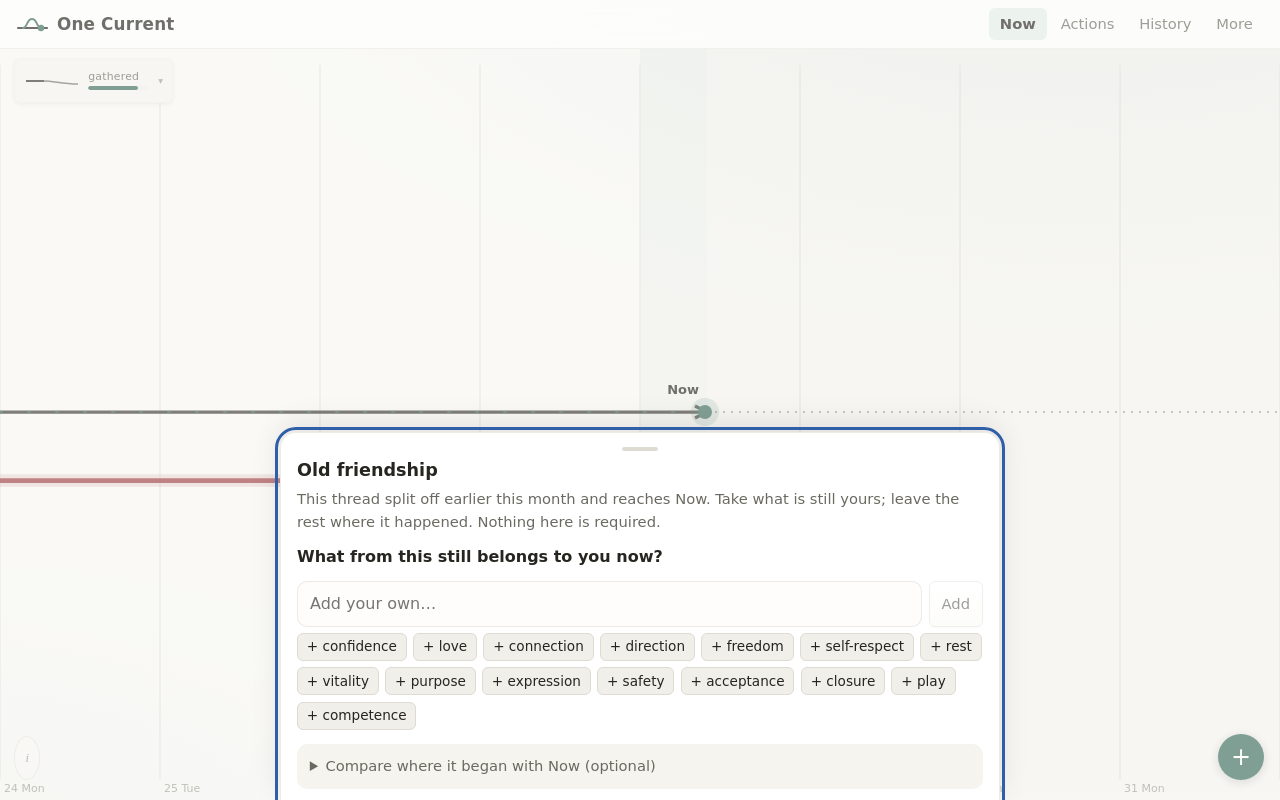
Test: app flows › compares fork with Now and sorts parts into destinations, in place
Expected: the dialog with class "operation-tray" is shown, [280,432,1000,799]
Click the heading "Compare where it began with Now (optional)": (491, 766) [325,757,656,774]
(page scrolled)
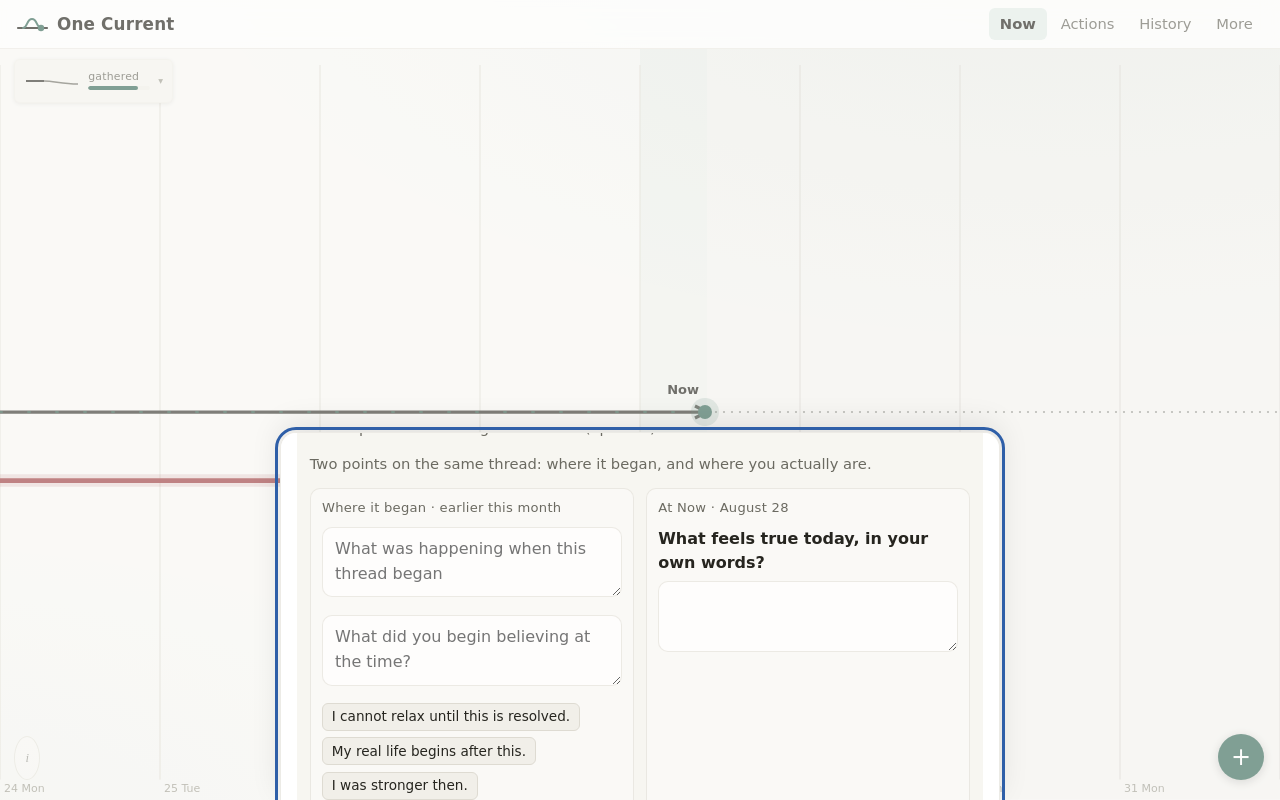
In the text box labelled "What feels true today, in your own words?": (808, 616) [658,581,958,652], type "We simply grew apart."
(page scrolled)
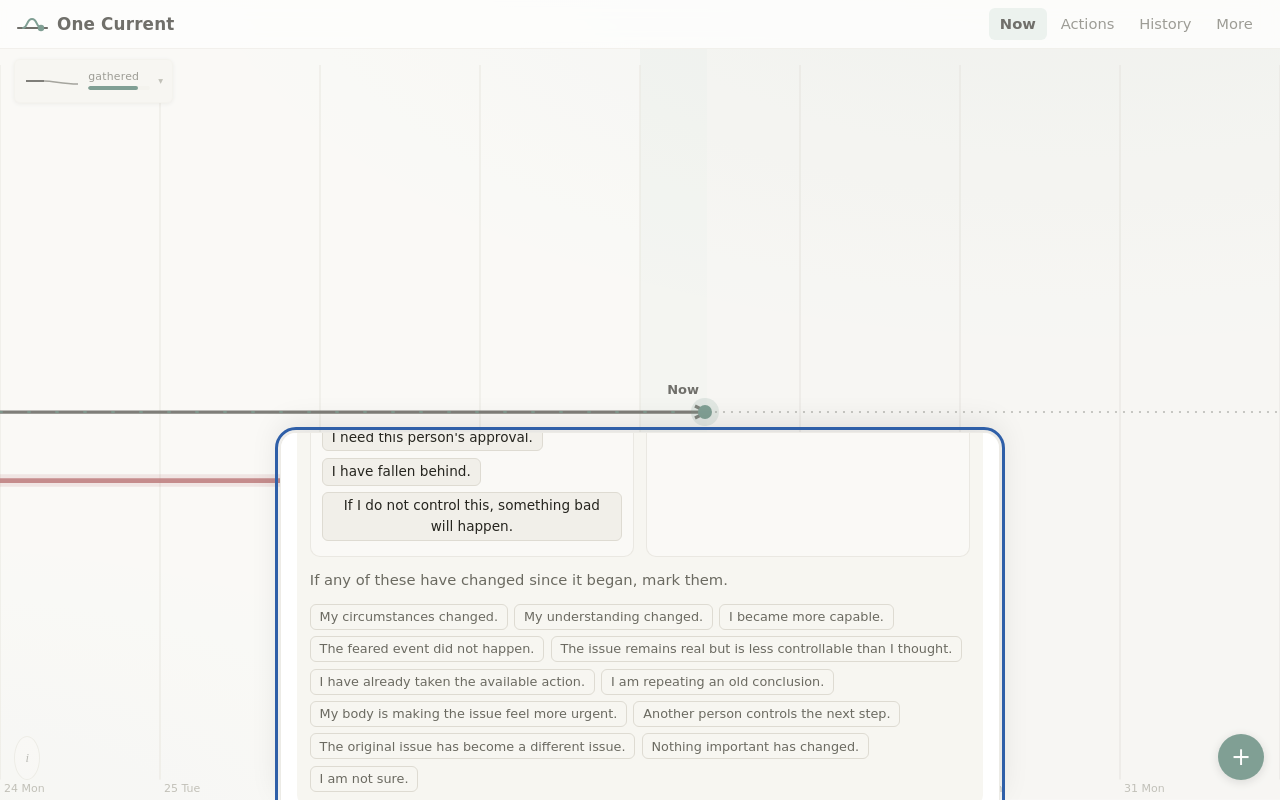
Click the button "My understanding changed.": (614, 617) [514,604,713,630]
(page scrolled)
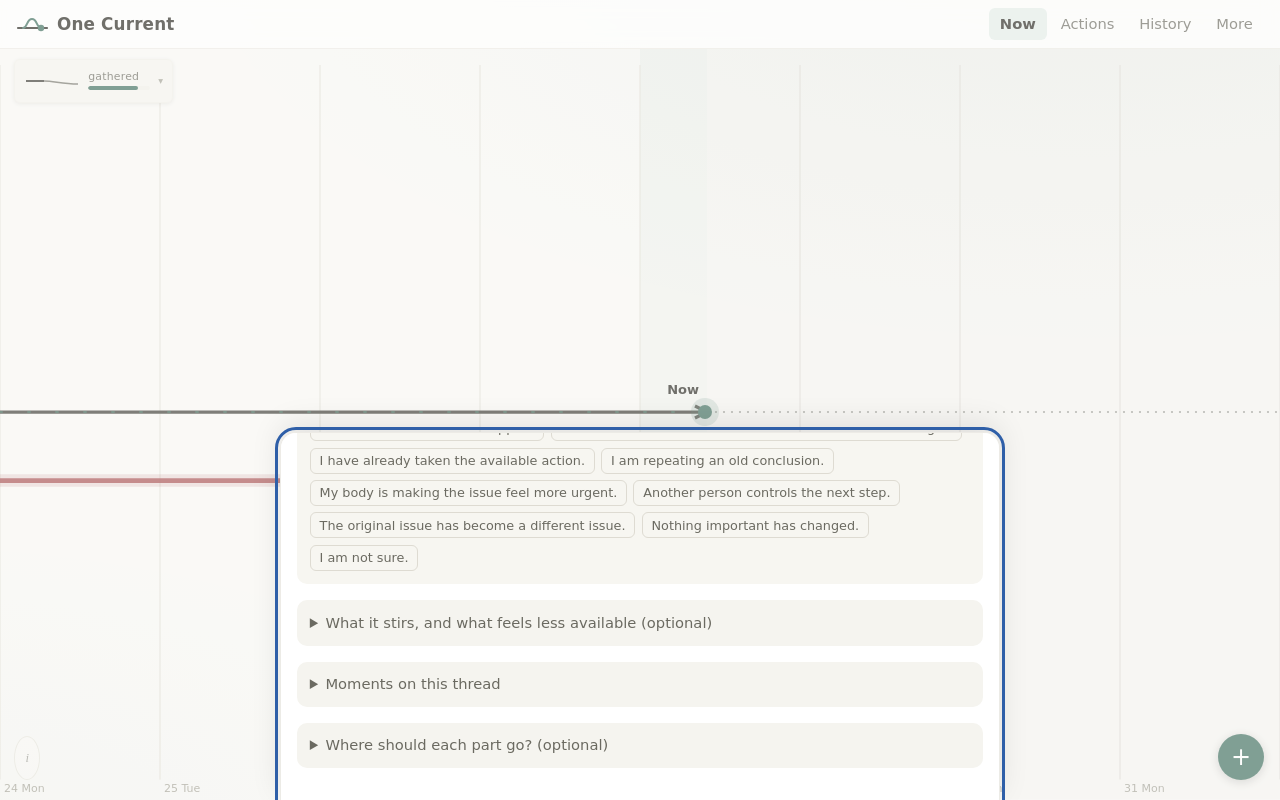
Click the heading "Where should each part go? (optional)": (467, 744) [325,736,608,753]
(page scrolled)
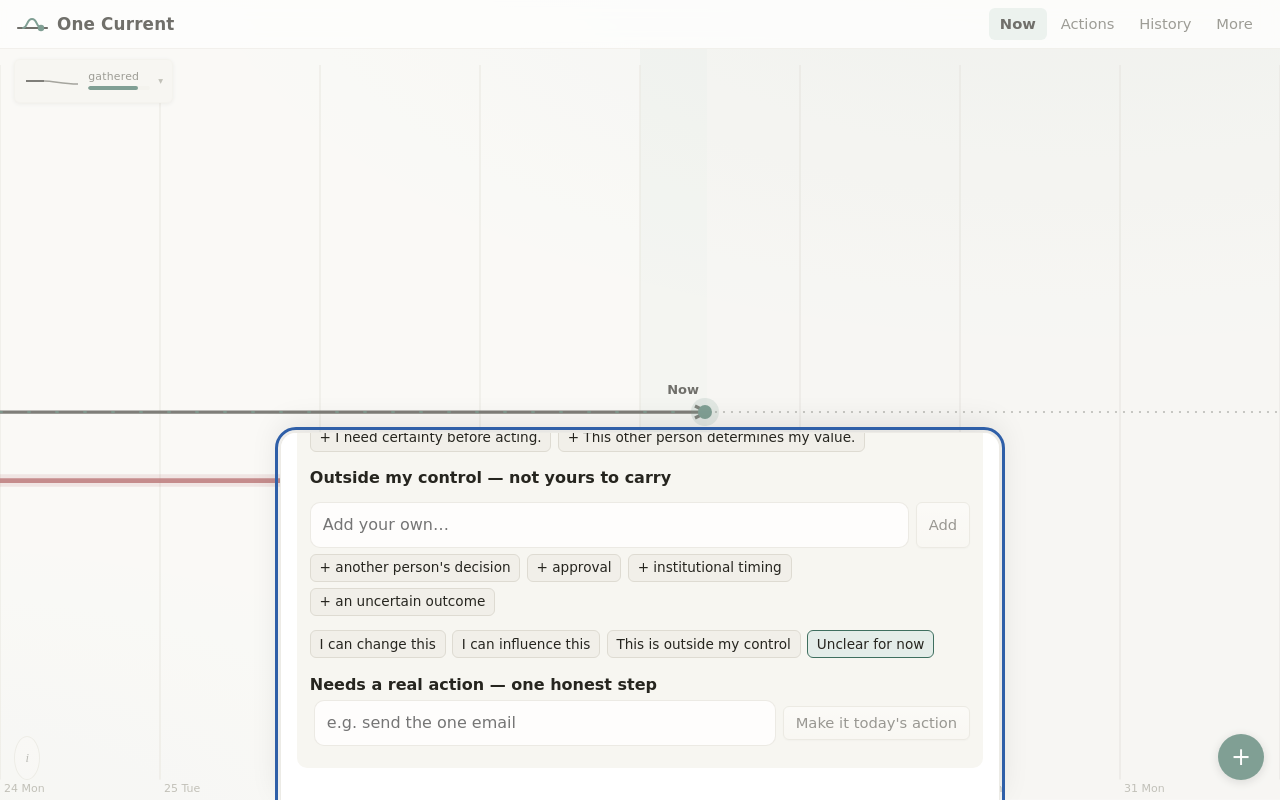
In the field labelled "Needs a real action — one honest step": (545, 723) [314,700,776,746], type "Write the birthday message"
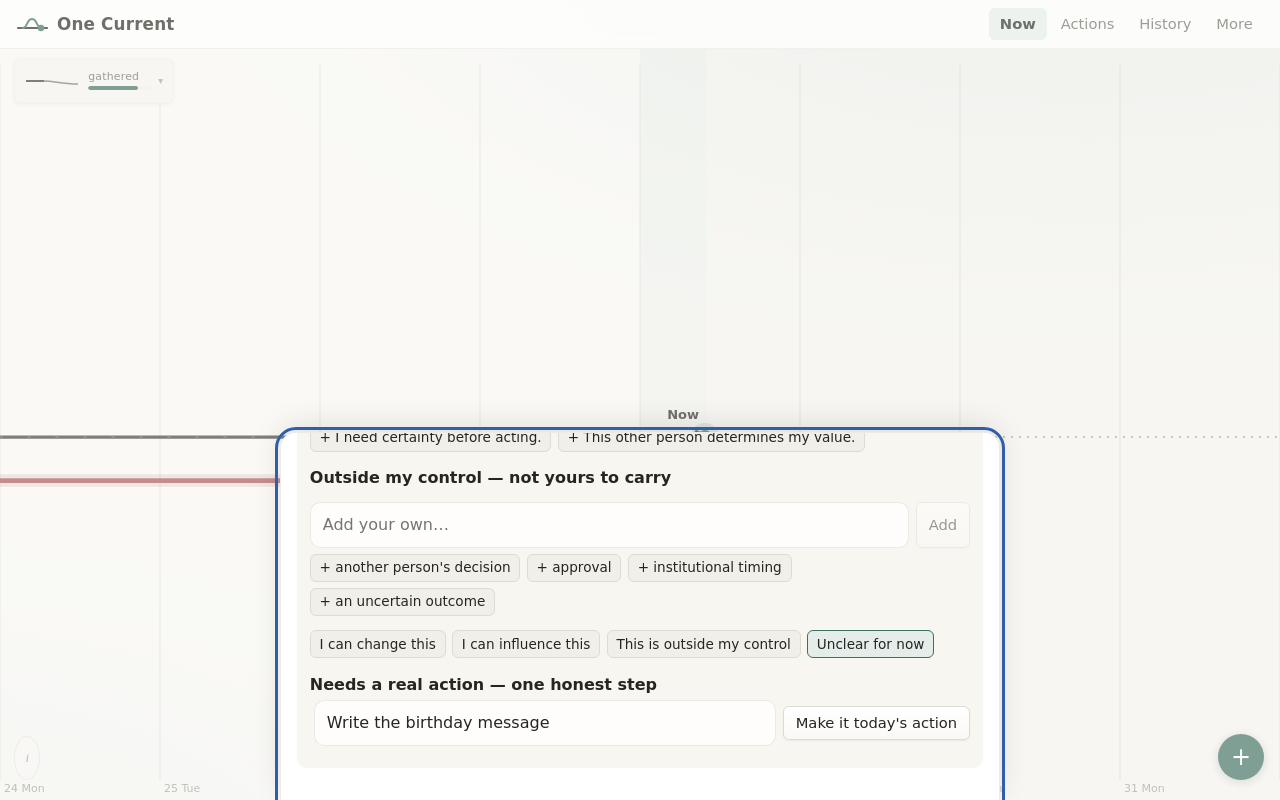
Click the button "Make it today's action": (876, 723) [783,706,970,740]
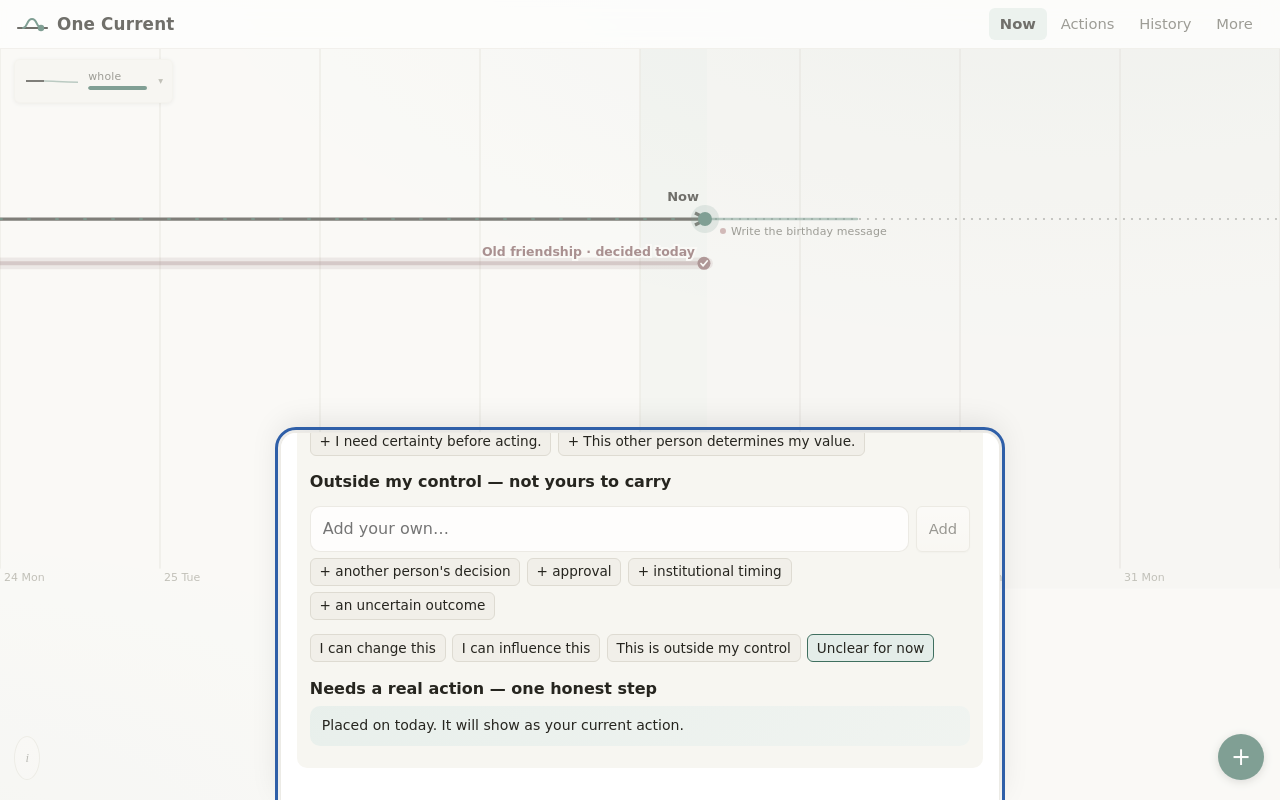
Now the text "Placed on today. It will show as your current action." is shown, box [310,706,970,746]
